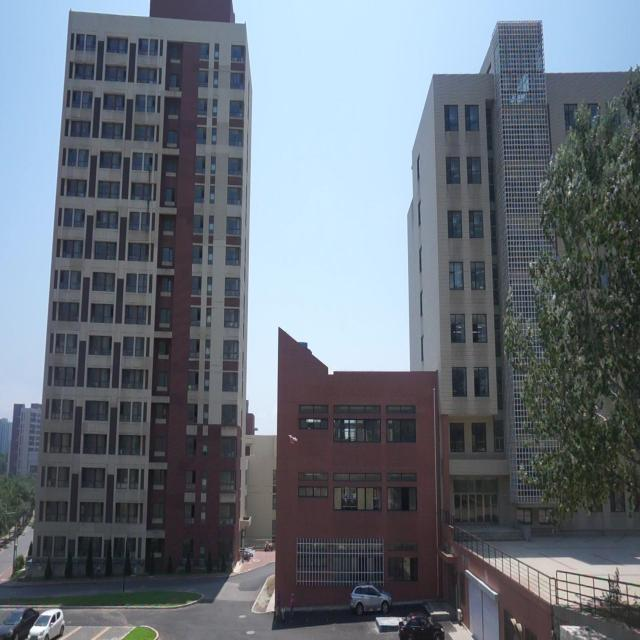drone: (288, 428, 300, 446)
